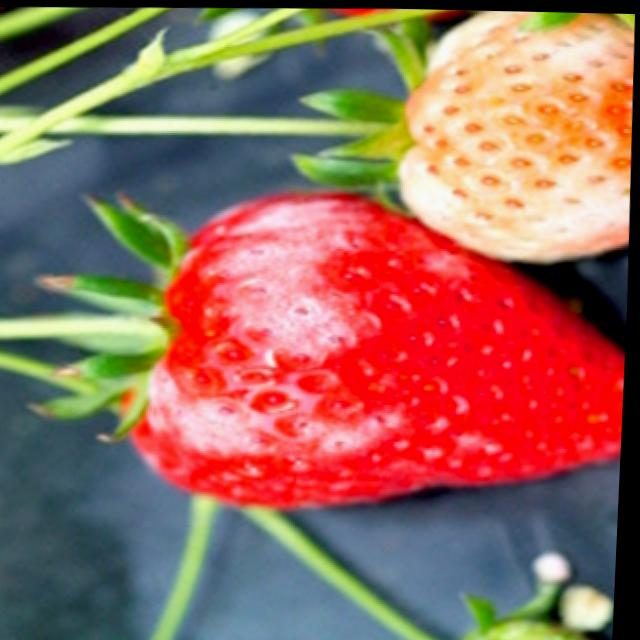Powdery Mildew Fruit: (124, 189, 509, 510)
